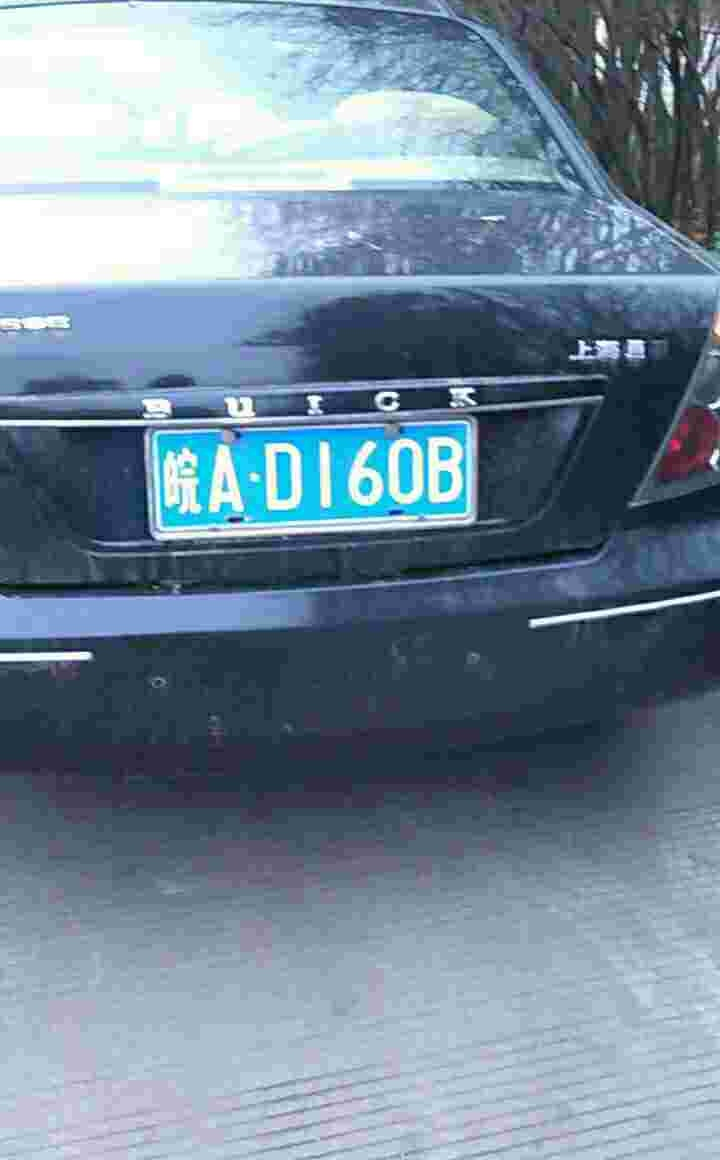license_plate: (144, 423, 482, 533)
